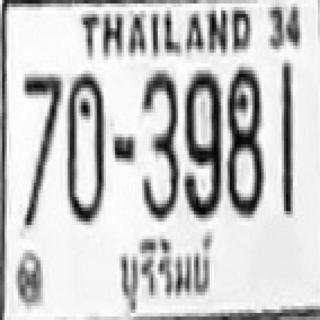N00: (65, 72, 104, 220)
N01: (279, 62, 291, 209)
N03: (140, 69, 178, 216)
N07: (23, 70, 61, 225), (23, 70, 61, 179)
N08: (226, 63, 262, 215)
N09: (182, 67, 218, 215)
P06: (110, 229, 211, 312)
